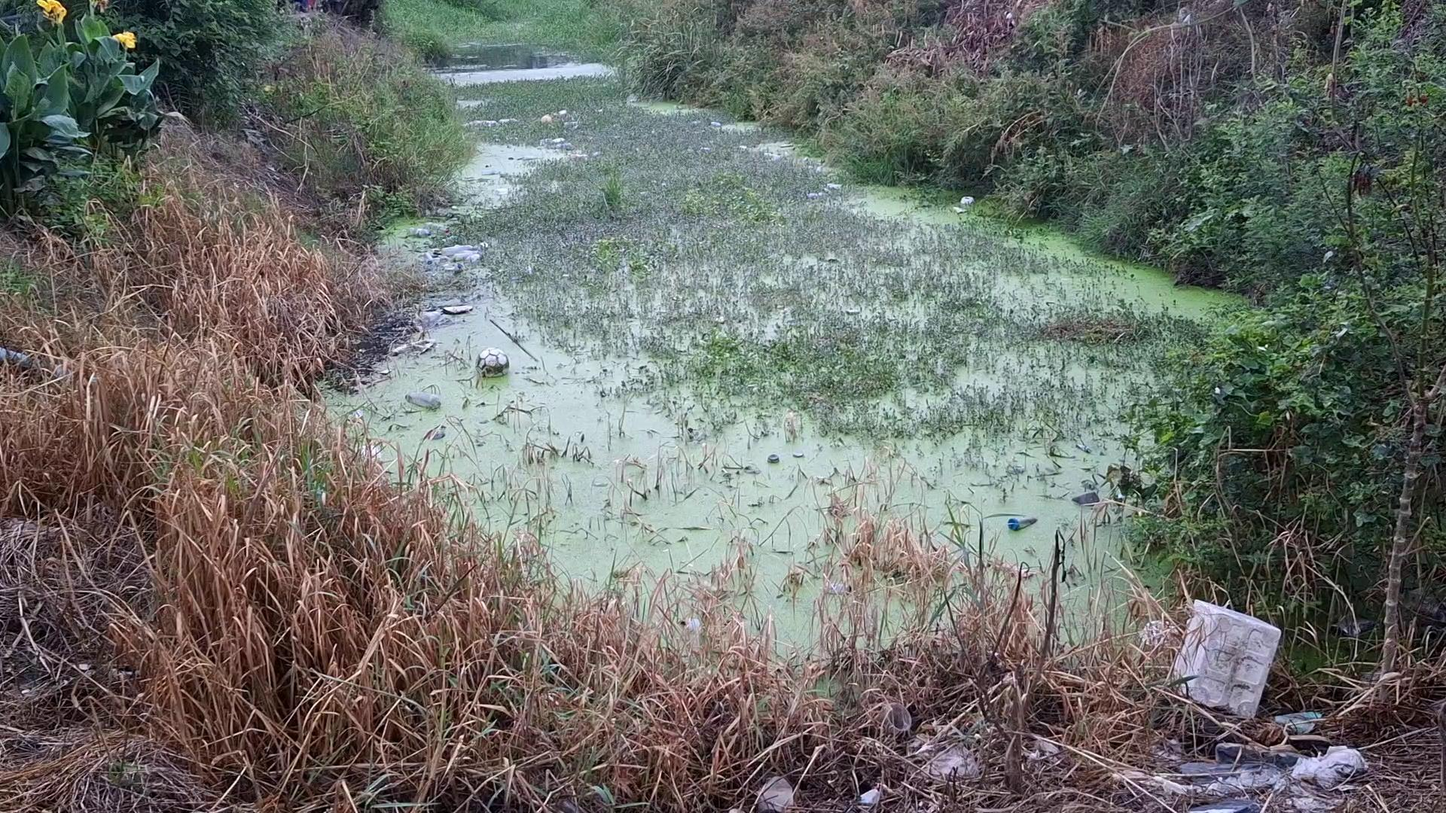ignore: (700, 250, 1185, 438), (508, 209, 916, 370), (468, 73, 753, 235)
trash: (467, 342, 529, 383), (428, 242, 490, 275), (1059, 483, 1112, 513), (409, 214, 462, 243), (434, 298, 485, 325), (754, 446, 815, 467), (996, 513, 1048, 537), (936, 194, 990, 217), (405, 381, 445, 410)
